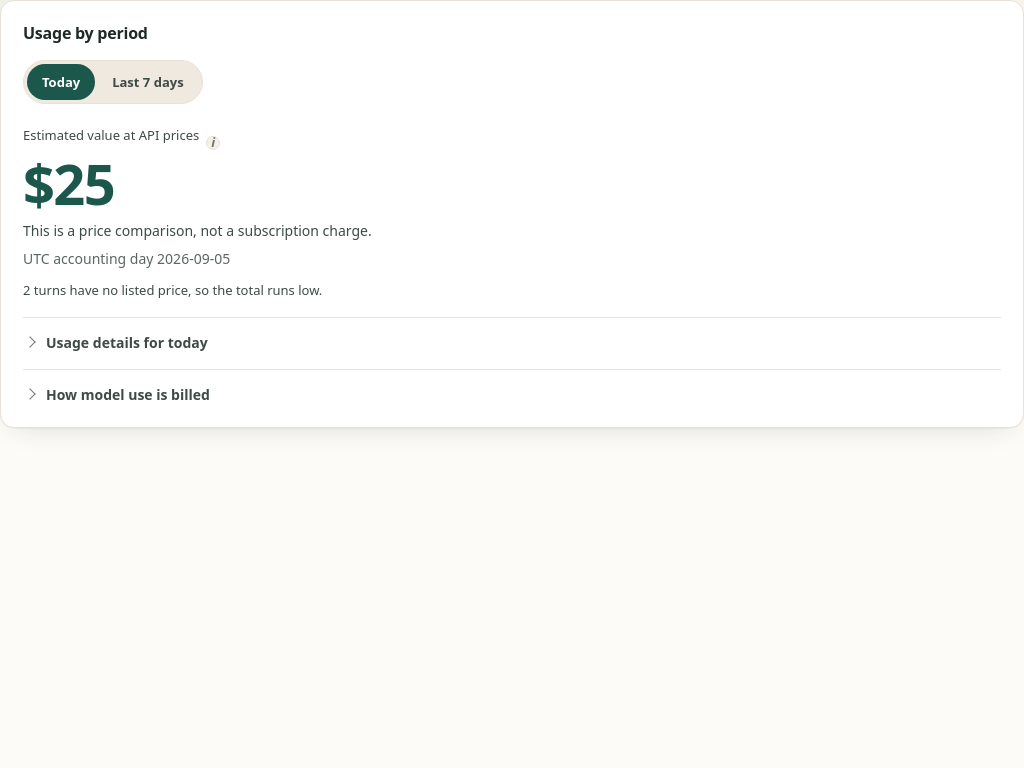
it: labels subscription equivalence without an economy reading and scopes the period selector
Check: the text "Estimated value at API prices" is shown, box [23,126,199,144]
Check: the text "This is a price comparison, not a subscription charge." is shown, box [23,221,372,240]
What coordinates should you click on to do the following:
click the button "Last 7 days"
I would click on:
 (148, 82)
Its box is [97,64,199,100].
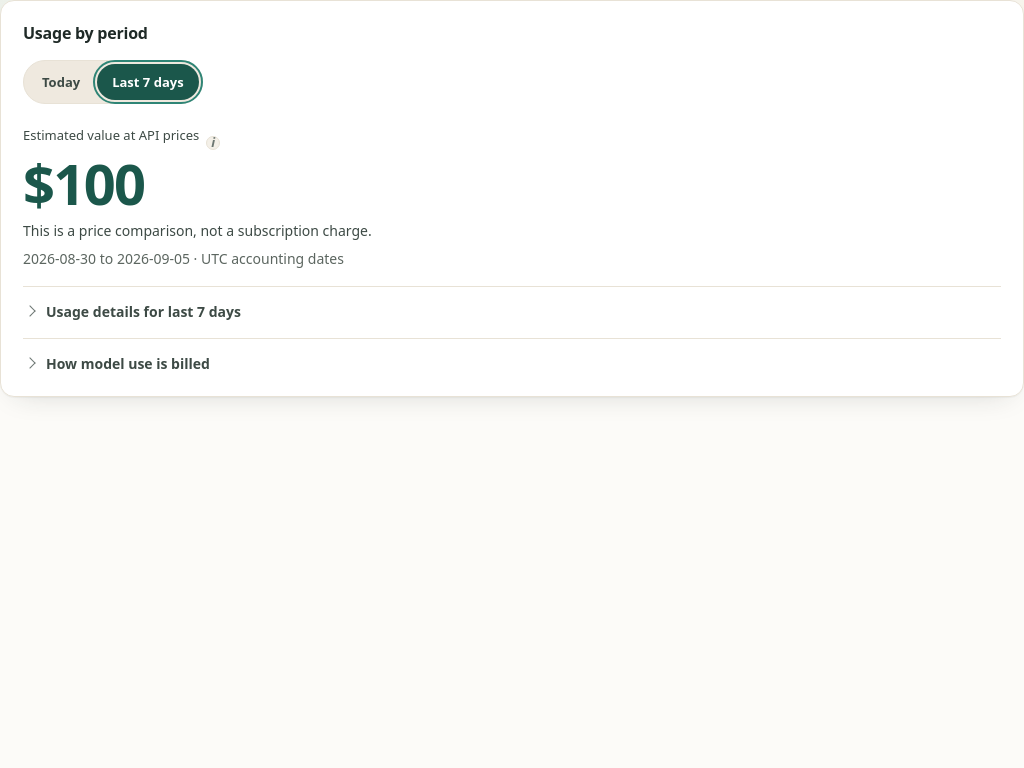
Check: the text "$100" is shown, box [23,145,144,221]
Check: the text "no listed price" is gone
What coordinates should you click on to do the following:
click the heading "Usage details for last 7 days"
I would click on:
 (144, 312)
Its box is [46,302,241,321].
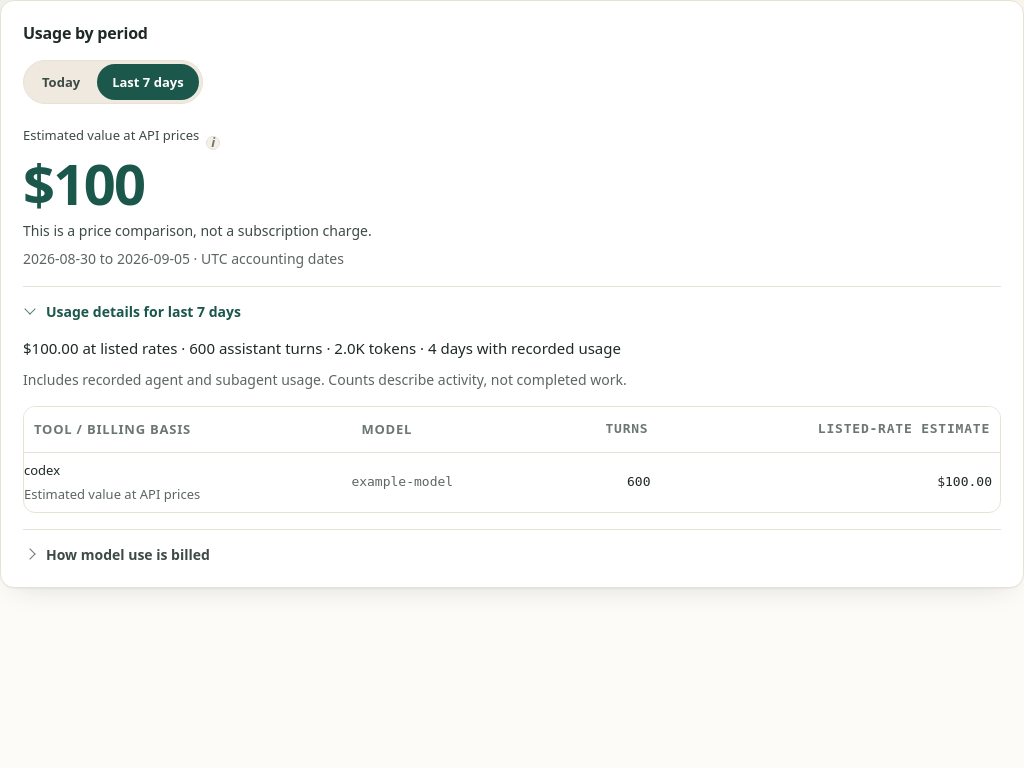
Check: the text "600 assistant turns" is shown, box [178,338,323,358]
Check: the text "example-model" is shown, box [351,452,546,512]
